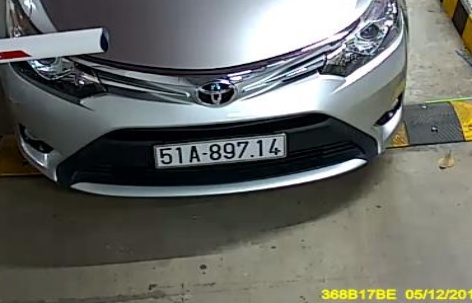plate: (153, 131, 299, 178)
